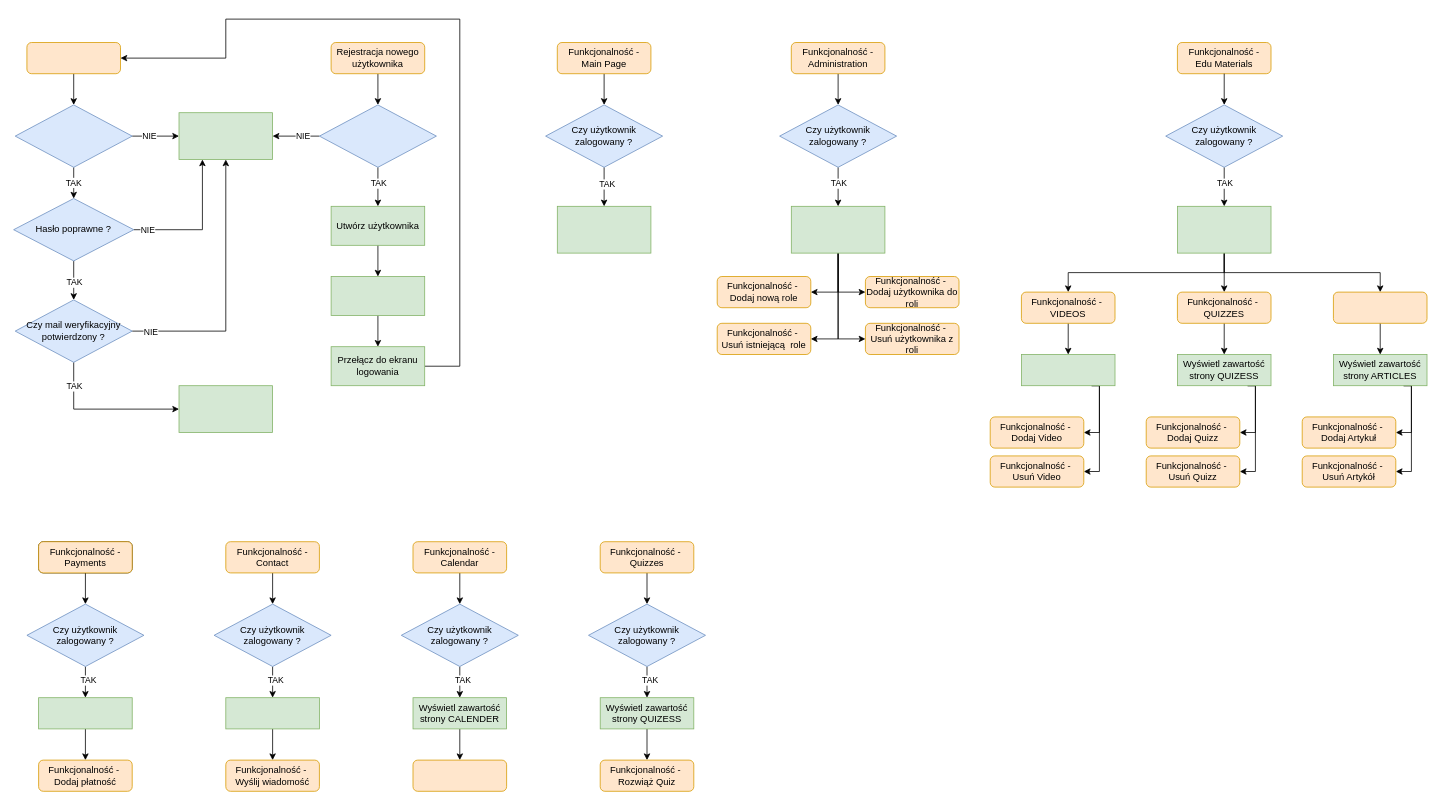
Some shapes in this 1441 by 805 pixel diagram are drawn without their labels. Here are the shapes that lost their labels. From the top down, the box of each, then its label:
(26, 42, 121, 74): Logowanie do aplikacji
(14, 104, 132, 167): Użytkownik istnieje ?
(178, 112, 273, 160): Wyświetl komunikat błędu
(319, 104, 436, 167): Dane w formularzu poprawne
(557, 206, 651, 253): Wyświetl zawartość strony MAIN PAGE
(791, 206, 885, 253): Wyświetl zawartość strony ADMINISTRATIONS
(1177, 206, 1271, 253): Wyświetl zawartość strony EDU MATERIALS
(330, 276, 425, 316): Wyślij mail weryfikacyjny
(1333, 291, 1427, 323): Funkcjonalność - ARTICLES
(1021, 354, 1115, 386): Wyświetl zawartość strony VIDEOS
(178, 385, 273, 433): Zaloguj użytkownika do systemu
(38, 697, 132, 729): Wyświetl zawartość strony PAYMENTS
(225, 697, 319, 729): Wyświetl zawartość strony CONTACT
(412, 759, 507, 791): Funkcjonalność - Dodaj Wydarzenie
